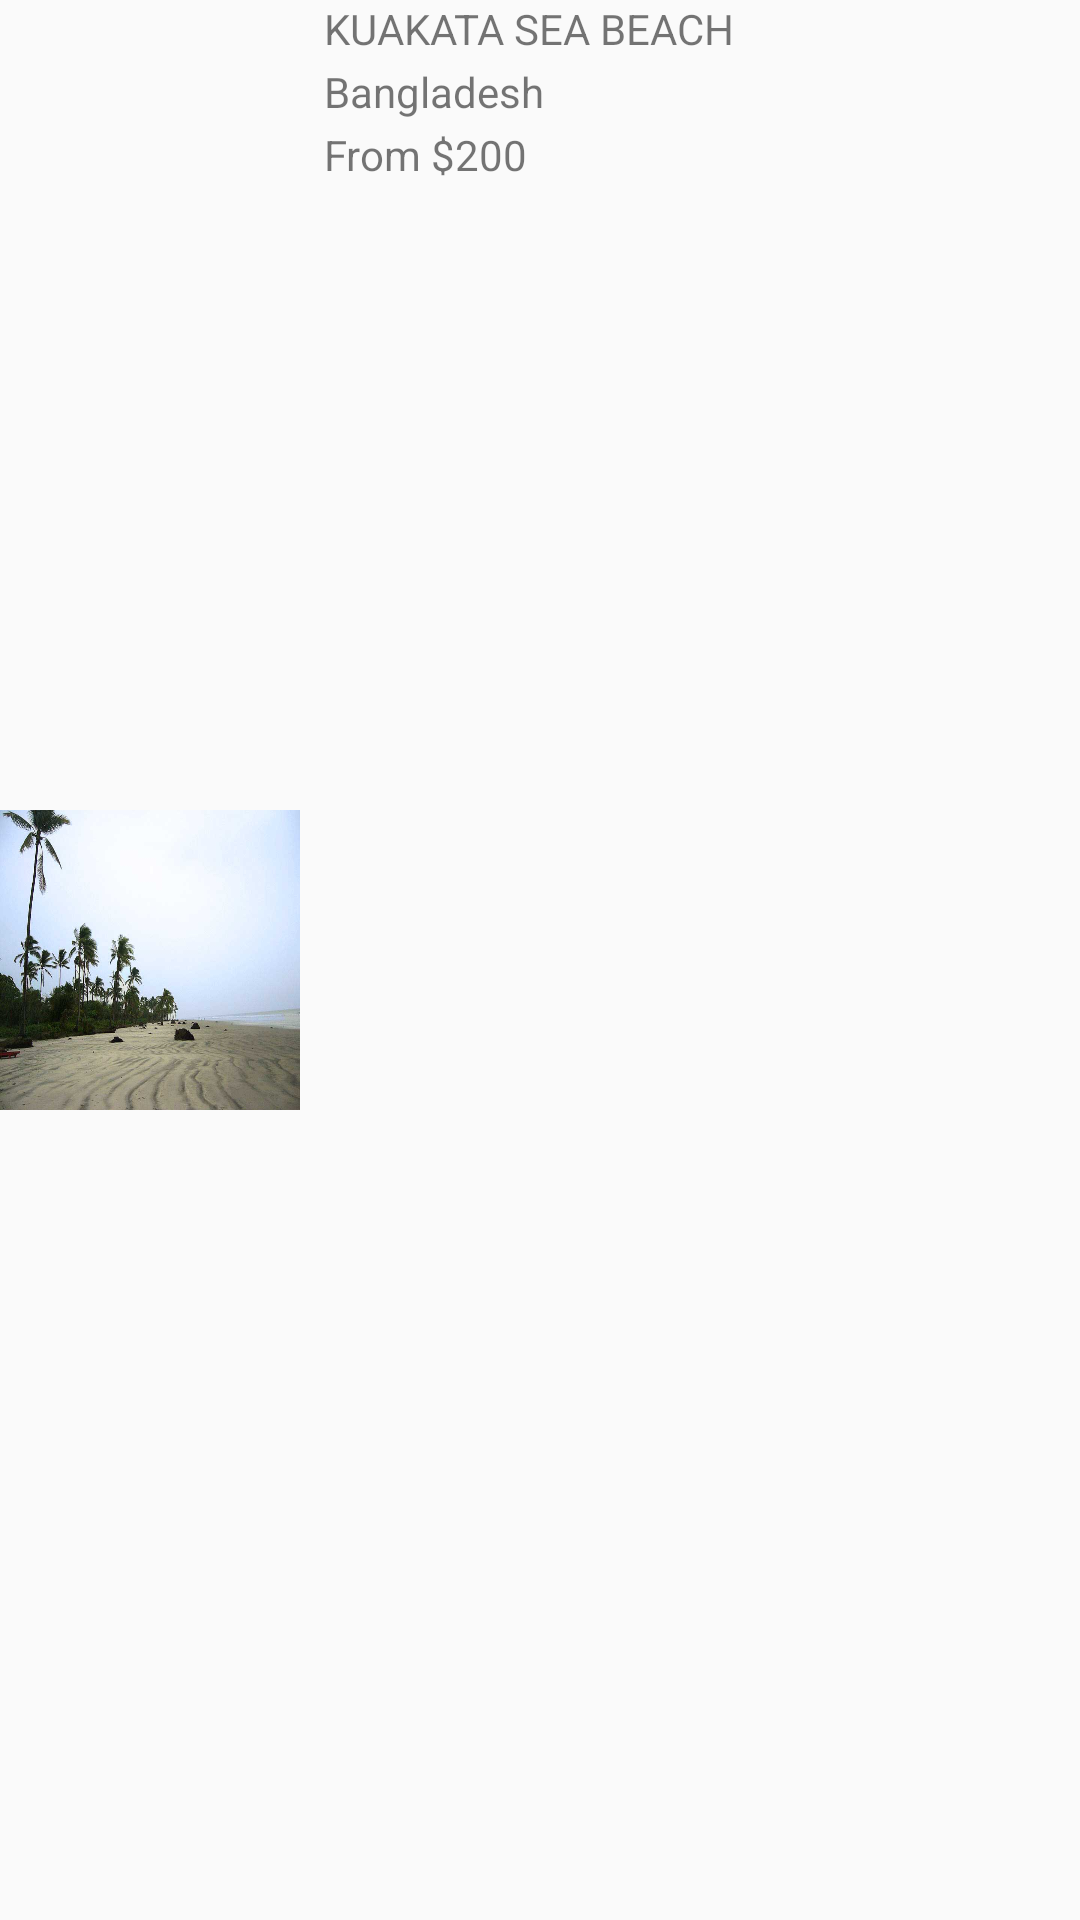

Icon click points for this 1080×1920 phone screenshot, format (x=x, y=y):
recentimage: (x=150, y=960)
